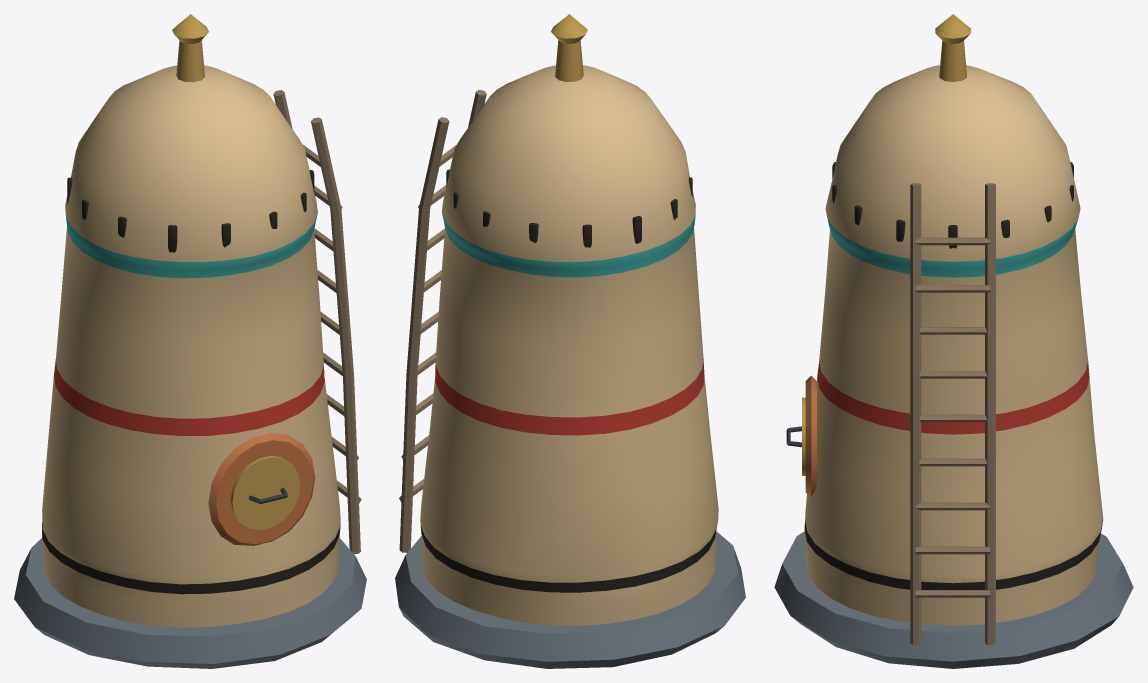
Rendered from deco_seed_silo_tall.fbx.
3 renders of one model, left to right at view 1: azimuth 30°, elevation 25°; view 2: azimuth 150°, elevation 25°; view 3: azimuth 270°, elevation 25°, orthographic.
Visible parts, largest first — view 1: SeedSilo_Tall_Body, SeedSilo_Tall_Footing, SeedSilo_Tall_Hatch, SeedSilo_Tall_Ladder, SeedSilo_Tall_Finial; view 2: SeedSilo_Tall_Body, SeedSilo_Tall_Footing, SeedSilo_Tall_Ladder, SeedSilo_Tall_Finial; view 3: SeedSilo_Tall_Body, SeedSilo_Tall_Footing, SeedSilo_Tall_Ladder, SeedSilo_Tall_Hatch, SeedSilo_Tall_Finial.
Part boxes in pixels (x1,y1,x2,y2): SeedSilo_Tall_Body: (41, 65, 340, 627); SeedSilo_Tall_Footing: (14, 538, 366, 668); SeedSilo_Tall_Hatch: (208, 433, 315, 545); SeedSilo_Tall_Ladder: (273, 90, 361, 553); SeedSilo_Tall_Finial: (172, 14, 208, 82); SeedSilo_Tall_Body: (420, 65, 718, 625); SeedSilo_Tall_Footing: (395, 531, 745, 668); SeedSilo_Tall_Ladder: (399, 90, 486, 552); SeedSilo_Tall_Finial: (551, 14, 587, 81); SeedSilo_Tall_Body: (804, 65, 1103, 625); SeedSilo_Tall_Footing: (774, 531, 1133, 668); SeedSilo_Tall_Ladder: (910, 183, 995, 644); SeedSilo_Tall_Hatch: (786, 375, 816, 497); SeedSilo_Tall_Finial: (935, 14, 970, 82).
Bounding box in the file's own units: 190 × 345 × 193.
